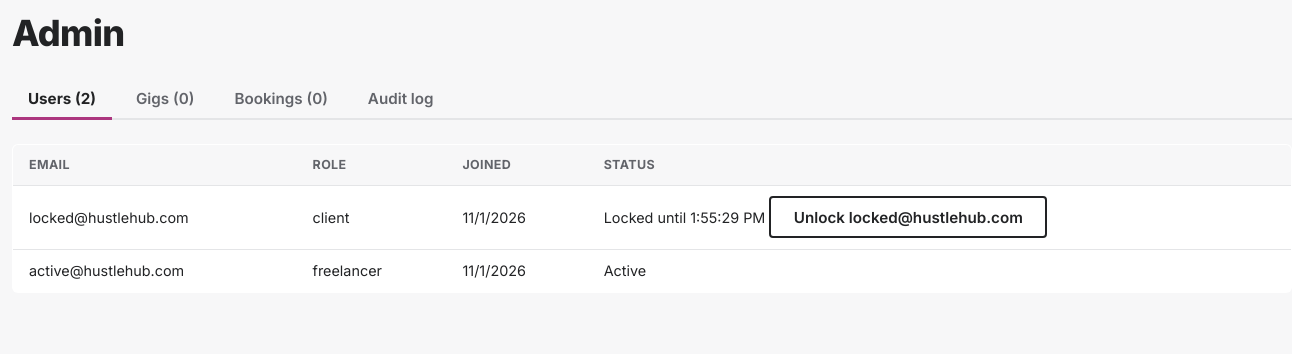
Test case: AdminPage › shows a plain error message when the unlock fails
Click the button "Unlock locked@hustlehub.com" at (908, 217), box [769, 196, 1047, 238]
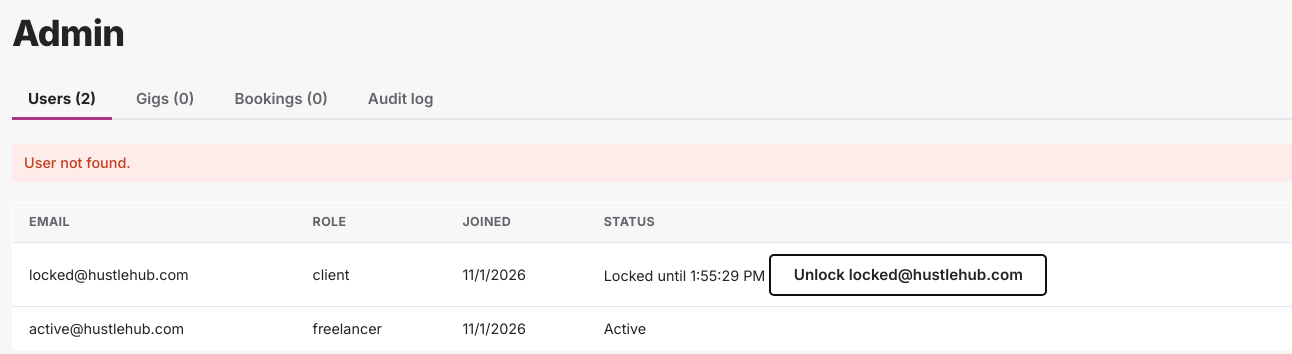
Check: the message reads "User not found.", box [24, 154, 131, 171]
